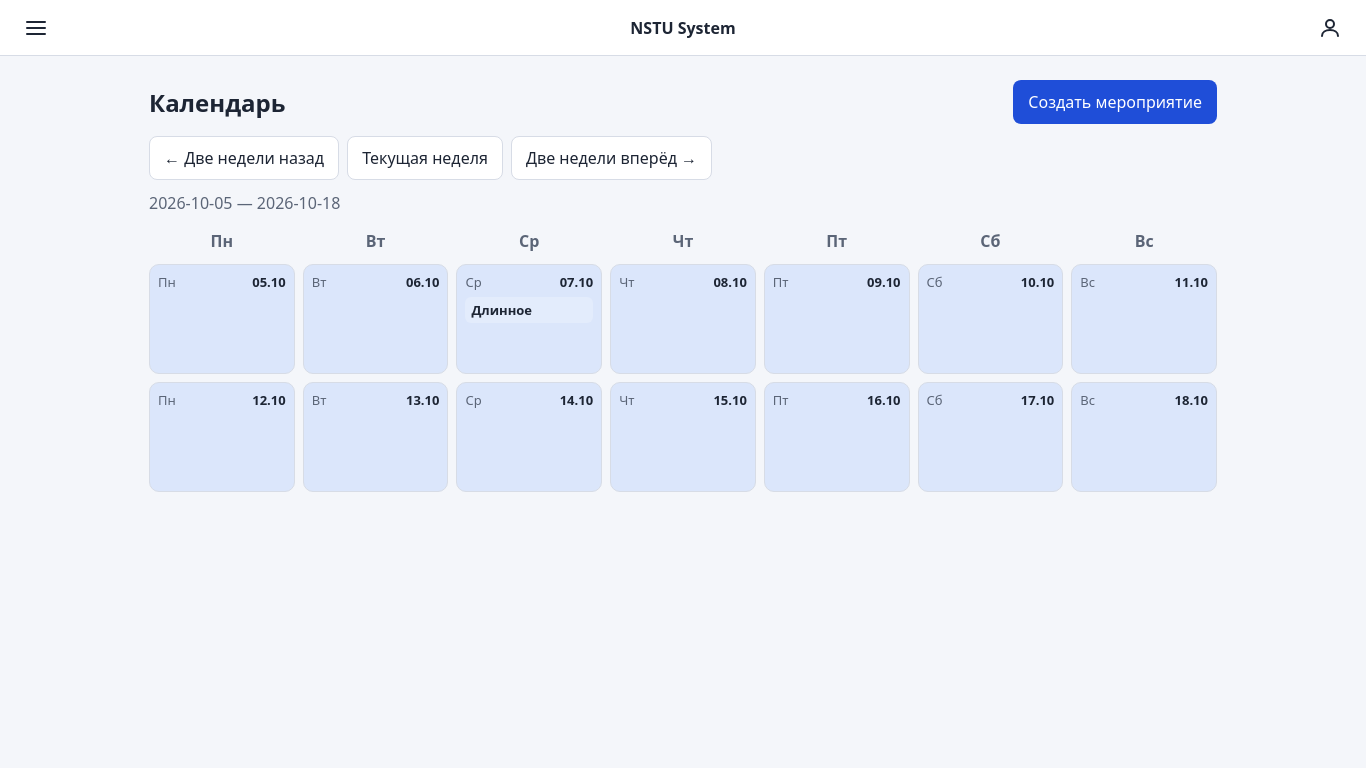
Scenario: карточка мероприятия: длинное описание › свёрнуто и раскрывается вертикально кнопкой «Развернуть»
Click the button "Длинное".
click(529, 310)  # box [465,297,593,323]
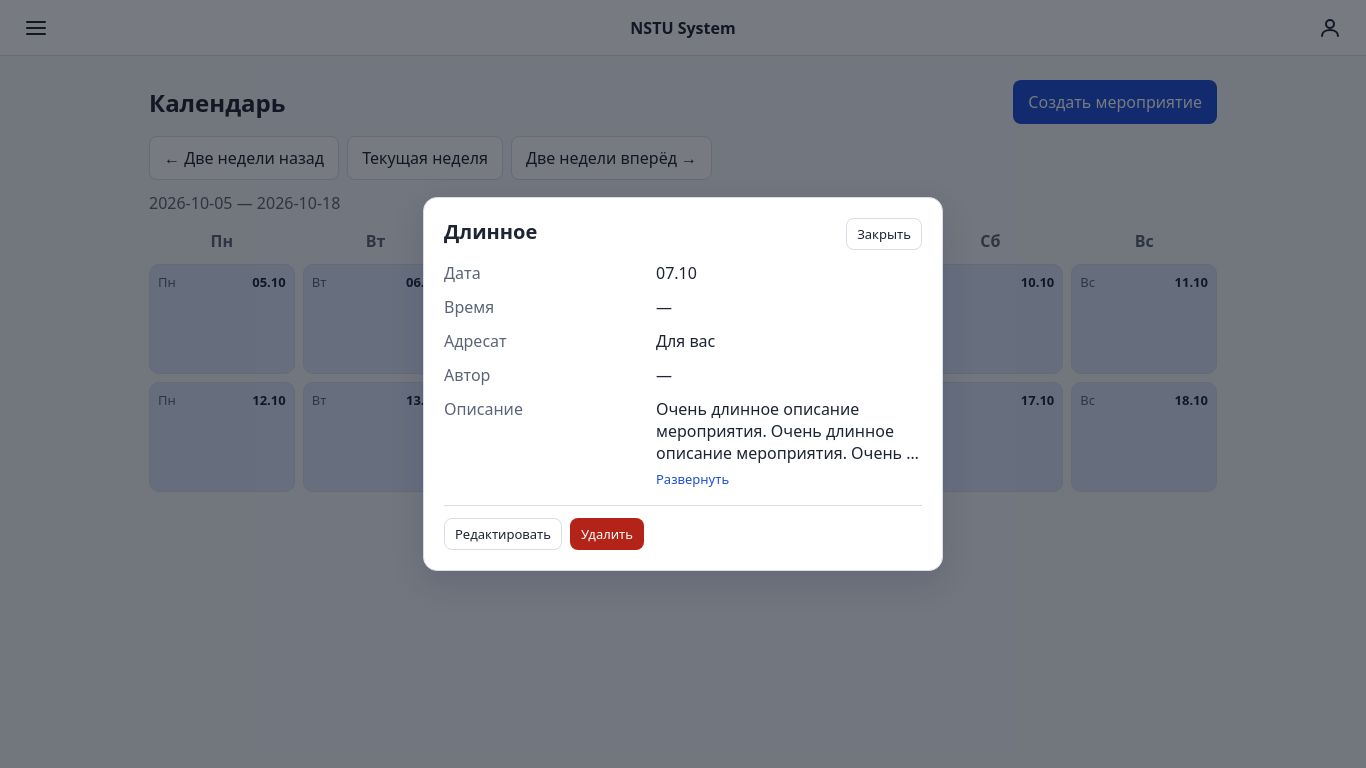
Click the button "Развернуть".
click(693, 479)  # box [656,470,729,488]
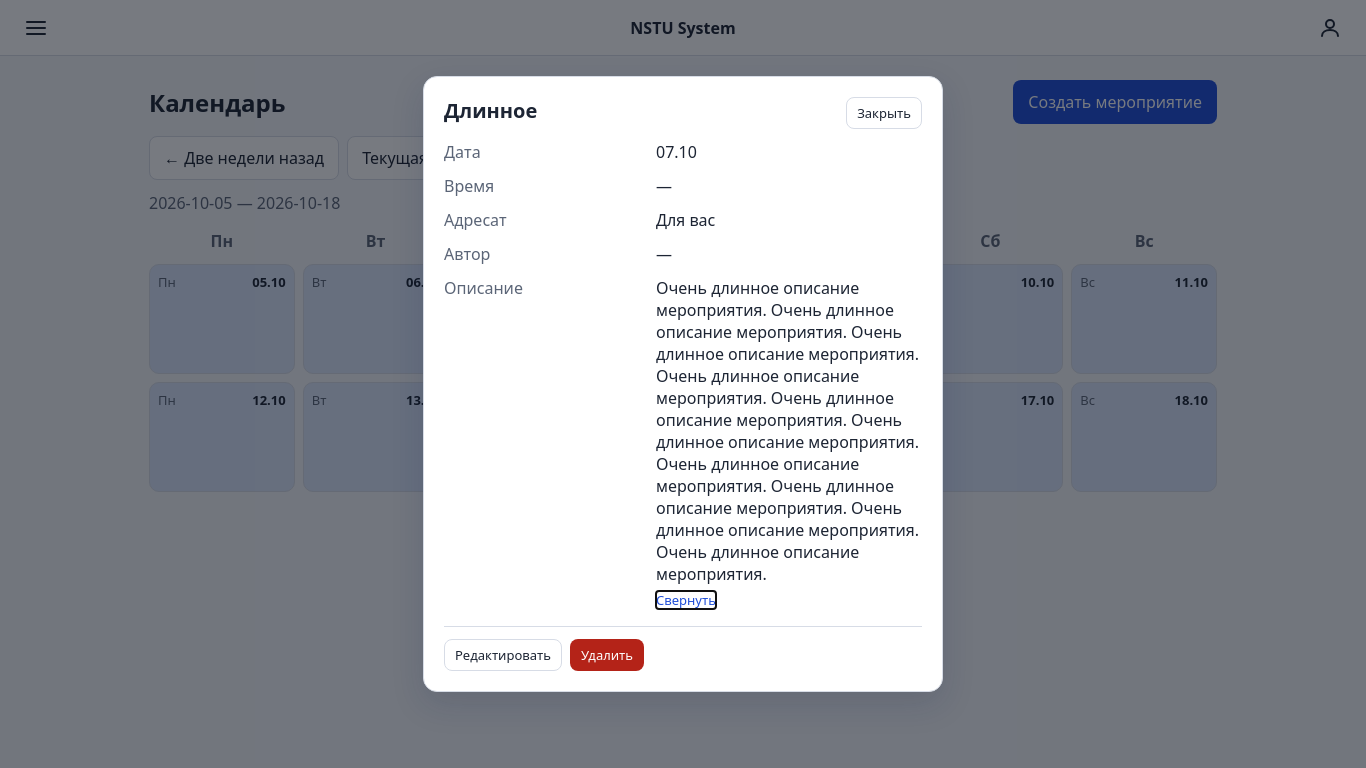
expect the text with test id "calendar-entry-description" has attribute data-clamped="false": met, box [656,277,922,585]
expect the text with test id "calendar-entry-description" has class "calendar-card__description--expanded": met, box [656,277,922,585]
Click the button "Свернуть".
click(686, 600)  # box [656,591,716,609]
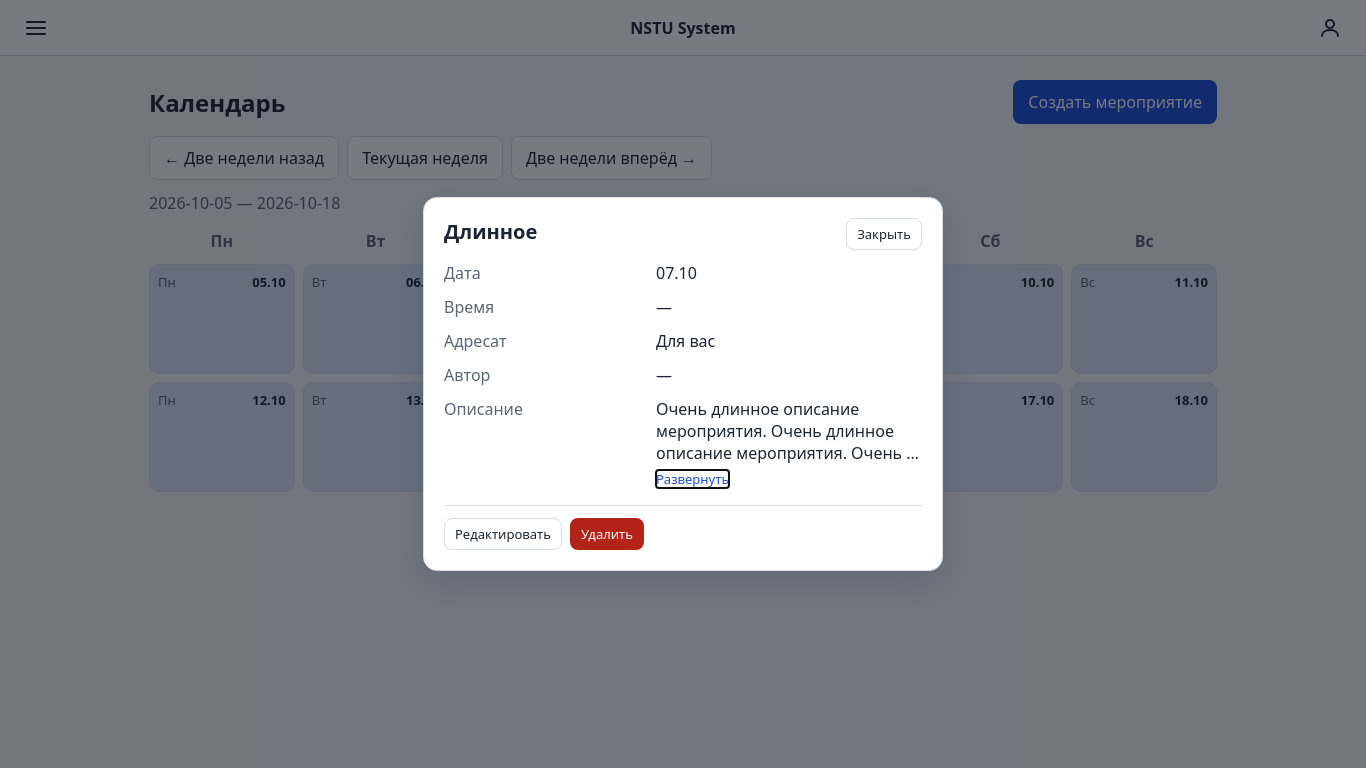
expect the button "Развернуть" is shown: met, box [656,470,729,488]
